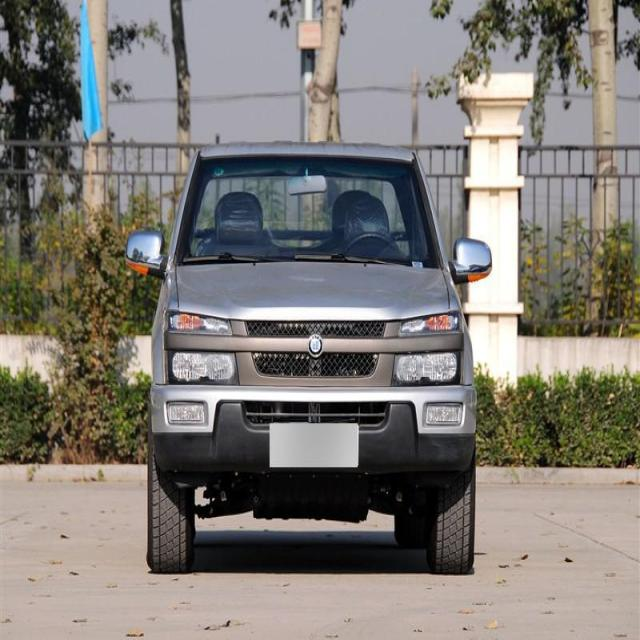front_bumper: (152, 376, 478, 480)
front_glass: (175, 154, 443, 268)
front_left_side_light: (392, 306, 465, 386)
front_left_side_mirror: (447, 234, 494, 286)
front_right_side_light: (160, 303, 241, 392)
front_right_side_mirror: (125, 226, 167, 282)
